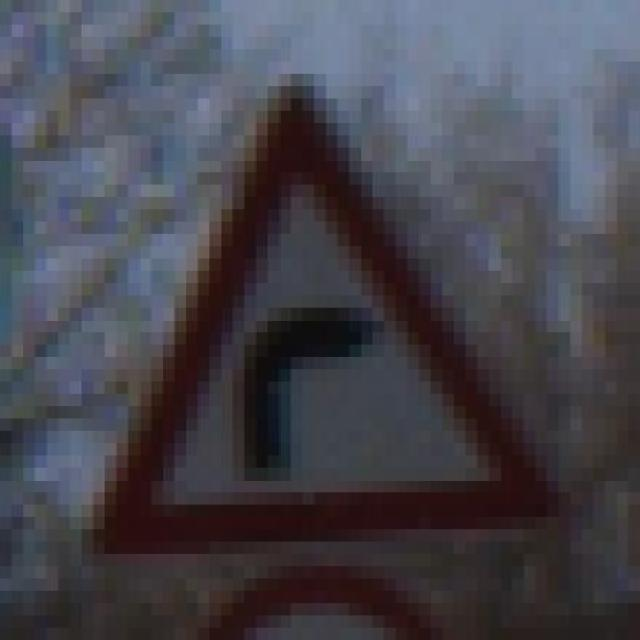Dangerous Rright Curve Ahead: (58, 74, 570, 554)
